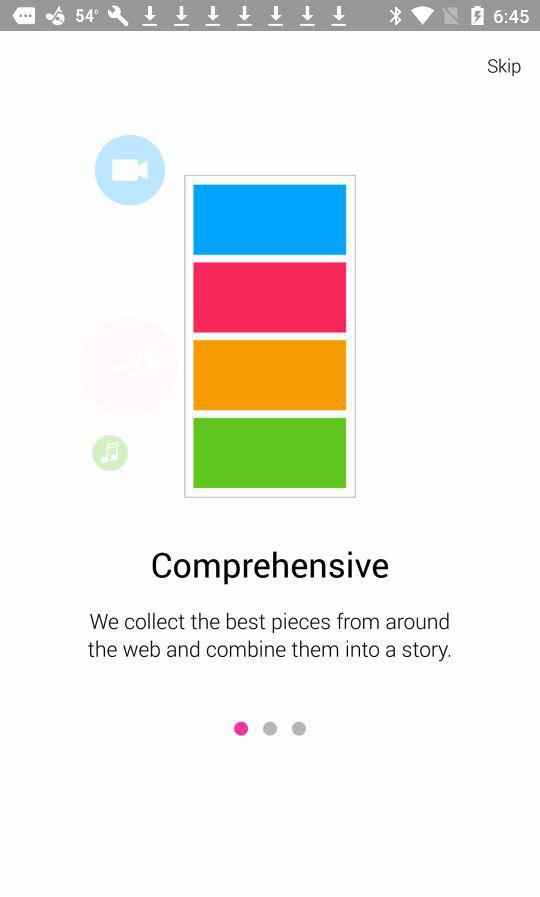Image: (184, 175, 357, 499)
PageIndicator: (233, 720, 308, 737)
Text: (88, 612, 452, 662), (152, 551, 389, 586), (487, 58, 521, 78)
UpperTaskBar: (1, 1, 540, 33)
